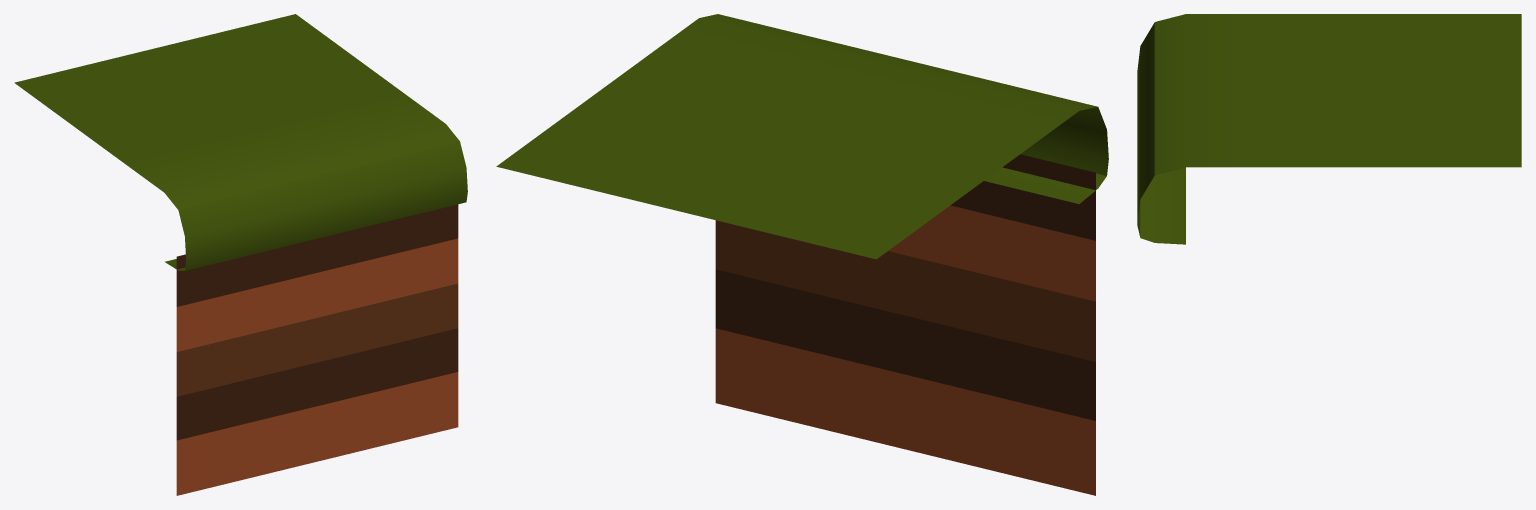
The model's file is Cube_Grass_Side_Tall.fbx.
3 views of the same model, side by side, from view 1: azimuth 30°, elevation 25°; view 2: azimuth 150°, elevation 25°; view 3: azimuth 270°, elevation 25° (orthographic). The views are drawn at different scales.
Parts seen in each view (by area): view 1: Cube_Grass_Side_Tall; view 2: Cube_Grass_Side_Tall; view 3: Cube_Grass_Side_Tall.
Part boxes in pixels (box(x1,y1,x2,y2)): Cube_Grass_Side_Tall: box(14, 14, 467, 495); Cube_Grass_Side_Tall: box(496, 14, 1108, 495); Cube_Grass_Side_Tall: box(1137, 14, 1521, 244).
Bounding box in the file's own units: 200 × 200 × 212.
